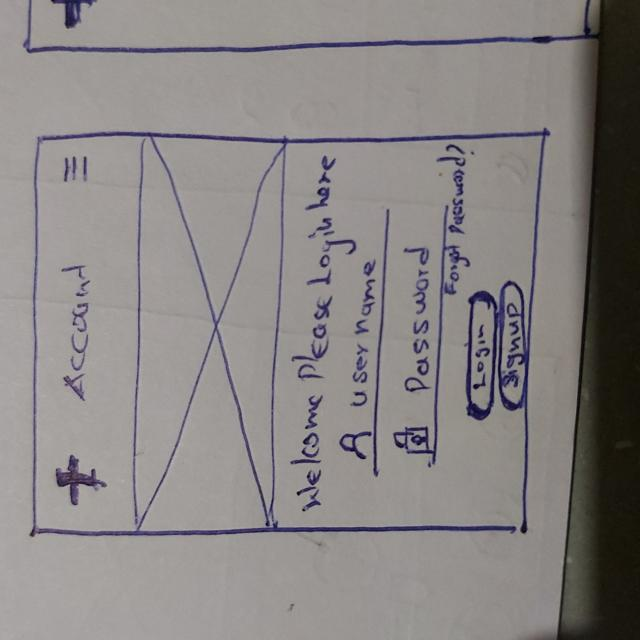AppBar: (30, 132, 140, 534)
Button: (495, 277, 525, 413), (468, 295, 494, 421)
CloseButton: (57, 455, 101, 503)
DrawerToggleButton: (59, 154, 93, 187)
EditText: (390, 207, 442, 471), (341, 209, 385, 472)
Icon: (391, 424, 433, 457), (340, 429, 373, 464)
Image: (137, 138, 278, 530)
MainLayout: (28, 131, 543, 543)
TextView: (298, 154, 329, 517), (58, 261, 94, 400), (442, 146, 465, 295)
